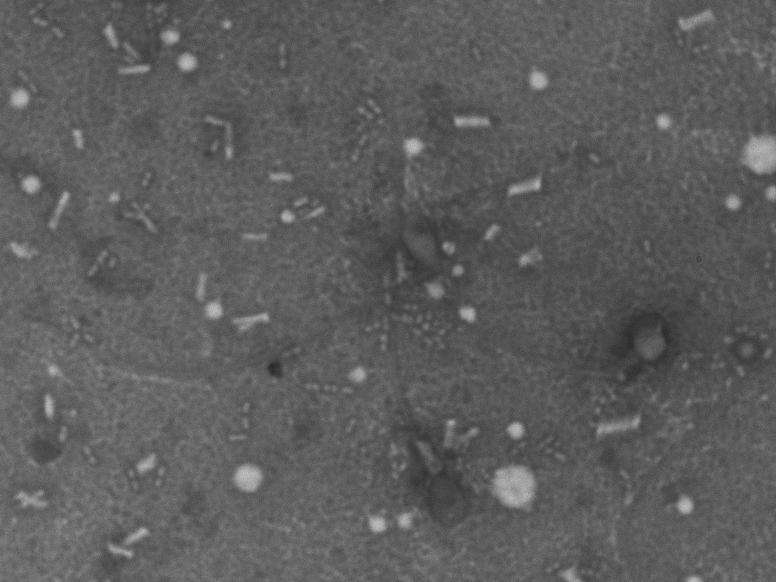Abnormal: (361, 297, 487, 542), (463, 277, 686, 406)
